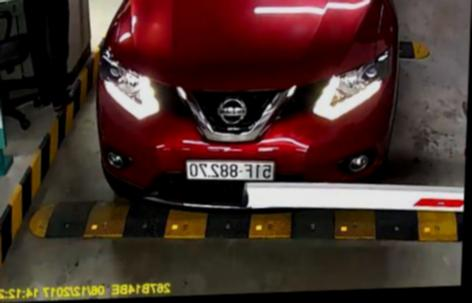License_Plate: (181, 157, 278, 184)
